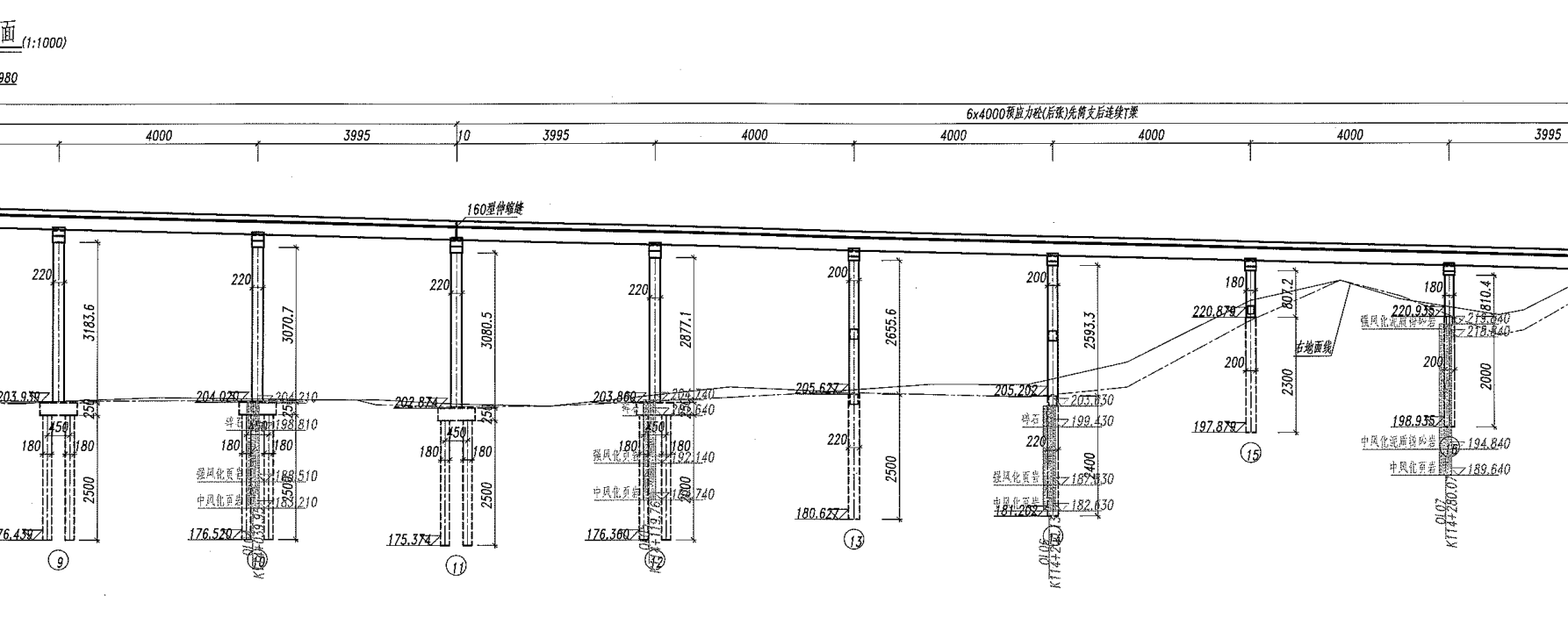B: (450, 106, 1568, 127)
C: (378, 233, 490, 585), (183, 225, 284, 580), (579, 235, 681, 579), (1, 220, 90, 579), (783, 242, 876, 557), (980, 249, 1076, 552), (1183, 251, 1271, 468), (1385, 255, 1468, 462)
